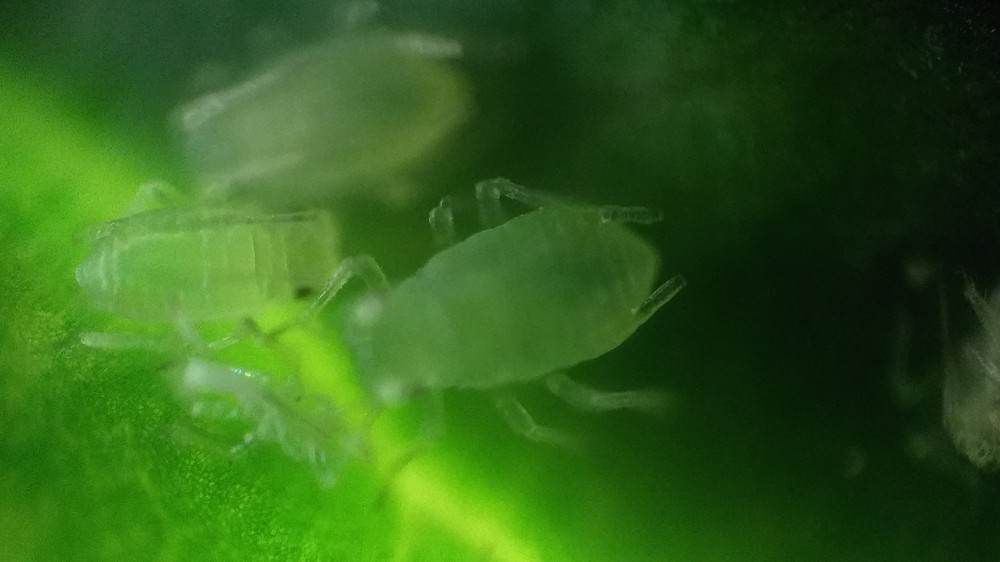Pulgon: (297, 166, 740, 470), (141, 15, 498, 235), (66, 173, 360, 374)
